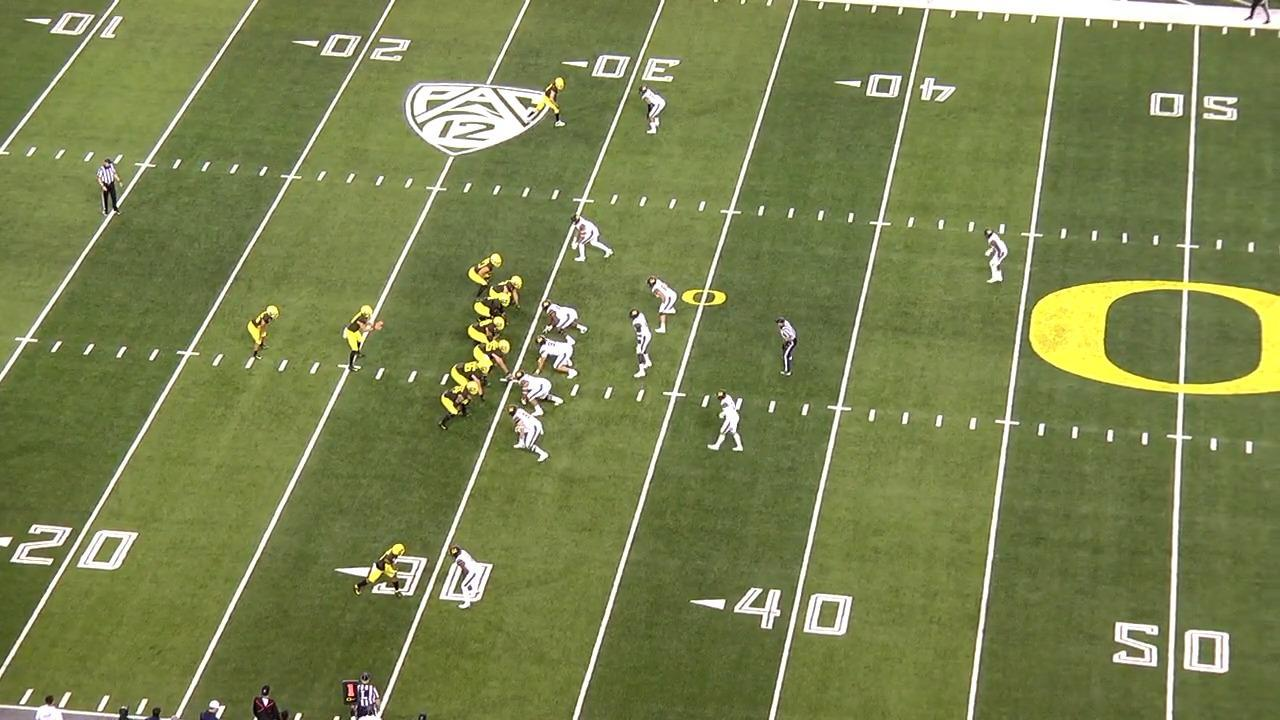player: (361, 540, 411, 598), (447, 545, 489, 614), (342, 302, 383, 371), (511, 405, 554, 467), (706, 392, 745, 456), (514, 371, 568, 417), (526, 76, 571, 131), (435, 381, 482, 432), (567, 213, 612, 265), (538, 299, 589, 343), (246, 302, 282, 362), (629, 308, 657, 384), (533, 337, 581, 381), (645, 275, 678, 337), (443, 361, 487, 406), (463, 249, 501, 300), (473, 340, 515, 386), (471, 295, 514, 337), (634, 85, 668, 138), (981, 226, 1010, 285), (467, 314, 510, 351), (487, 273, 525, 313)
ref: (93, 155, 124, 222), (773, 312, 801, 379), (348, 669, 385, 719), (1242, 0, 1278, 26)
